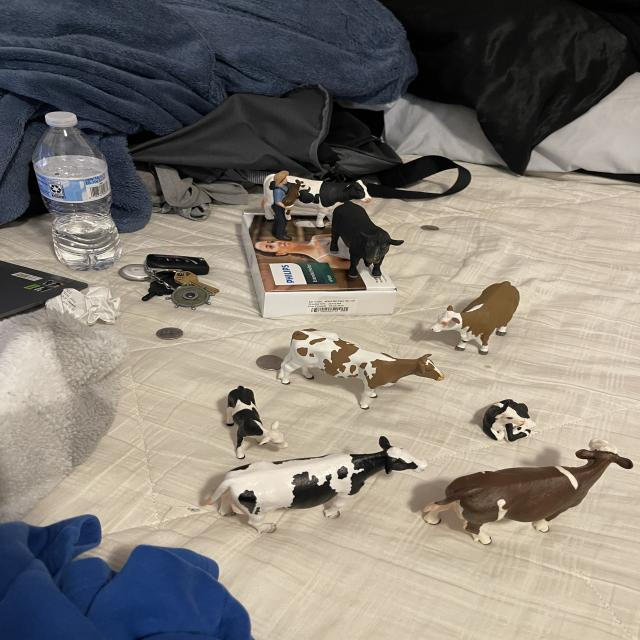cow: (414, 427, 640, 565), (200, 427, 434, 544), (276, 323, 449, 425), (429, 261, 530, 366), (307, 194, 407, 292), (216, 377, 287, 462), (284, 176, 373, 226), (475, 392, 539, 453), (274, 175, 310, 211), (261, 173, 275, 219)
person: (269, 170, 291, 241)
